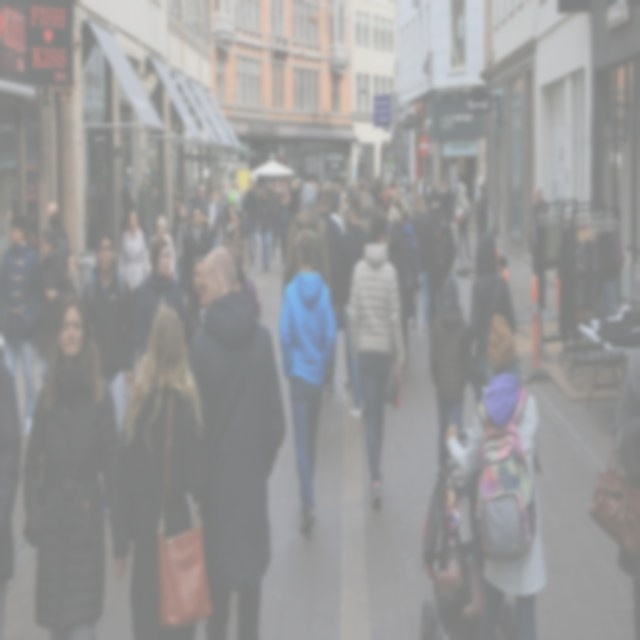pessoa: (185, 246, 289, 639), (18, 290, 132, 640), (110, 304, 213, 640), (443, 314, 548, 640), (278, 227, 337, 536), (348, 213, 406, 510), (80, 228, 135, 515), (587, 344, 640, 639), (0, 211, 42, 443), (428, 274, 473, 474), (435, 464, 487, 622), (469, 231, 516, 404), (336, 193, 371, 419), (0, 319, 23, 639), (135, 236, 187, 366), (280, 183, 332, 305), (36, 227, 75, 385), (420, 191, 458, 342), (317, 188, 344, 396), (386, 208, 412, 374), (119, 209, 150, 317), (181, 205, 212, 304), (526, 186, 550, 311), (410, 191, 430, 338), (388, 198, 418, 264), (84, 177, 111, 250), (223, 208, 250, 280), (173, 202, 191, 304), (184, 255, 205, 342), (254, 187, 274, 272), (148, 216, 176, 276), (46, 202, 70, 270), (336, 300, 354, 390), (456, 181, 474, 264), (242, 178, 259, 265), (203, 184, 224, 250), (48, 210, 69, 272), (276, 193, 292, 271), (140, 162, 152, 255), (266, 178, 279, 258), (192, 206, 212, 258), (120, 167, 136, 230), (169, 192, 189, 242), (390, 188, 412, 225), (358, 192, 374, 240), (511, 172, 523, 236), (476, 184, 489, 243), (221, 200, 236, 250), (190, 184, 208, 223), (328, 196, 344, 237), (290, 178, 304, 223), (226, 180, 242, 214), (274, 184, 282, 248), (233, 260, 248, 294), (2, 206, 13, 252), (402, 182, 416, 218), (439, 178, 452, 216), (370, 184, 384, 218), (338, 191, 348, 234), (214, 188, 224, 231), (428, 181, 440, 216), (554, 180, 566, 213), (152, 185, 160, 234), (381, 192, 394, 222), (479, 183, 487, 228), (384, 180, 394, 213), (221, 180, 229, 220), (236, 188, 244, 218), (252, 180, 260, 208), (226, 180, 233, 212), (378, 184, 387, 208), (370, 176, 380, 196), (170, 183, 178, 207), (334, 183, 341, 210), (315, 178, 323, 200), (330, 186, 338, 206), (346, 180, 354, 198), (287, 176, 294, 196), (358, 178, 366, 195), (282, 177, 290, 194), (259, 183, 266, 202), (284, 185, 290, 207), (316, 197, 322, 217), (304, 178, 316, 188), (411, 182, 419, 195), (275, 180, 282, 194), (296, 198, 302, 214), (313, 182, 319, 197), (367, 179, 372, 194), (392, 178, 398, 190), (354, 185, 360, 197), (340, 184, 346, 196), (299, 178, 304, 192), (384, 184, 390, 194), (280, 182, 286, 192), (242, 188, 246, 202), (258, 186, 262, 200), (186, 186, 190, 200), (396, 178, 400, 190), (352, 183, 356, 195), (292, 178, 296, 190), (207, 188, 211, 200), (204, 187, 208, 198), (322, 181, 326, 191), (236, 182, 241, 190), (372, 180, 376, 188), (344, 184, 348, 192), (266, 182, 270, 190), (365, 183, 368, 193), (339, 182, 342, 192), (332, 182, 337, 187), (320, 182, 323, 190), (245, 188, 249, 194), (379, 180, 382, 184), (324, 181, 326, 185)
